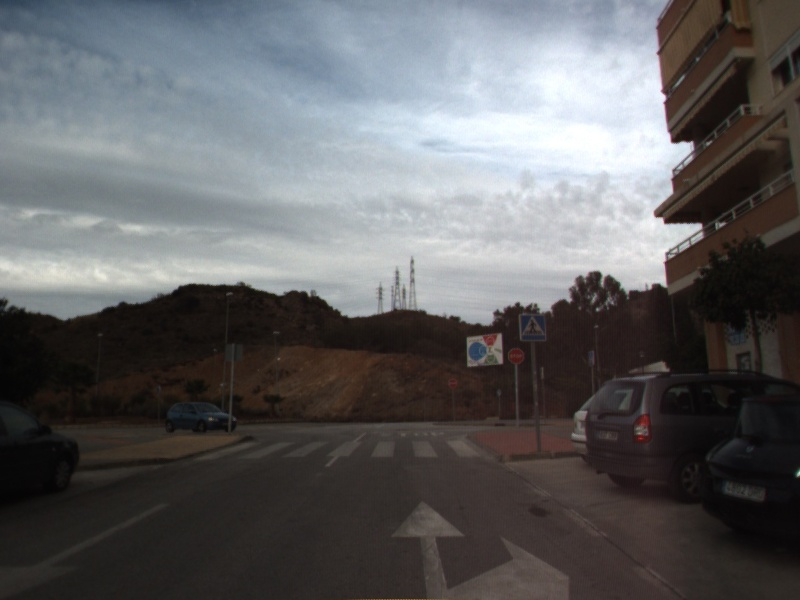STRAIGHT_RIGHT: (388, 496, 575, 600)
